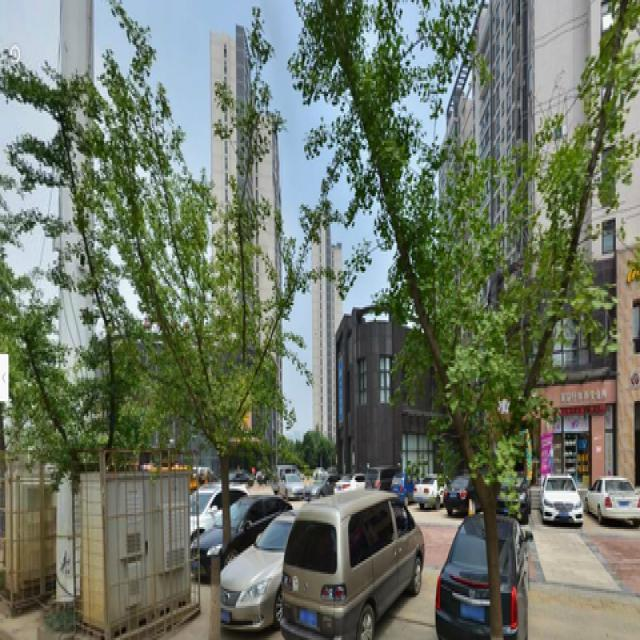gink: (370, 21, 566, 616), (136, 79, 280, 612)
